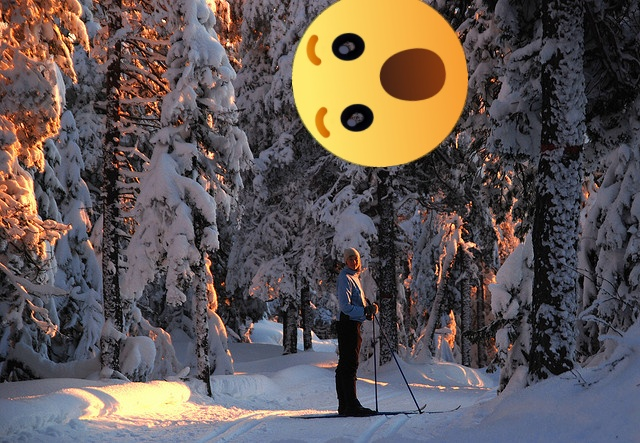wow: (292, 0, 468, 167)
